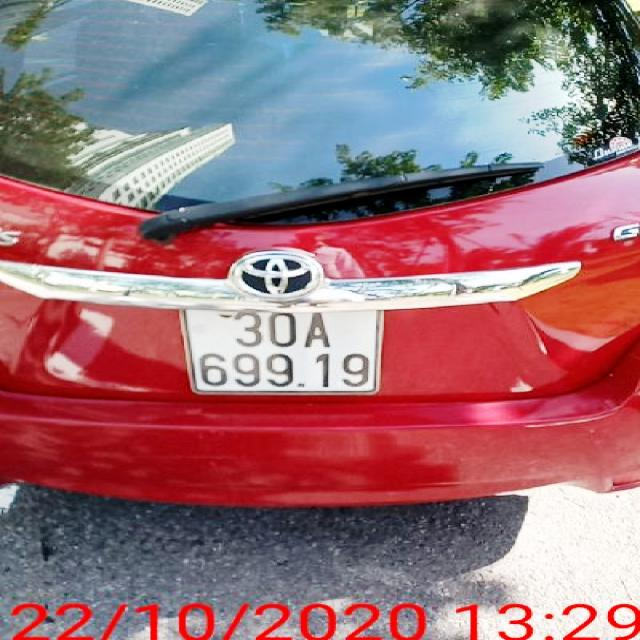license_plate: (183, 310, 380, 394)
